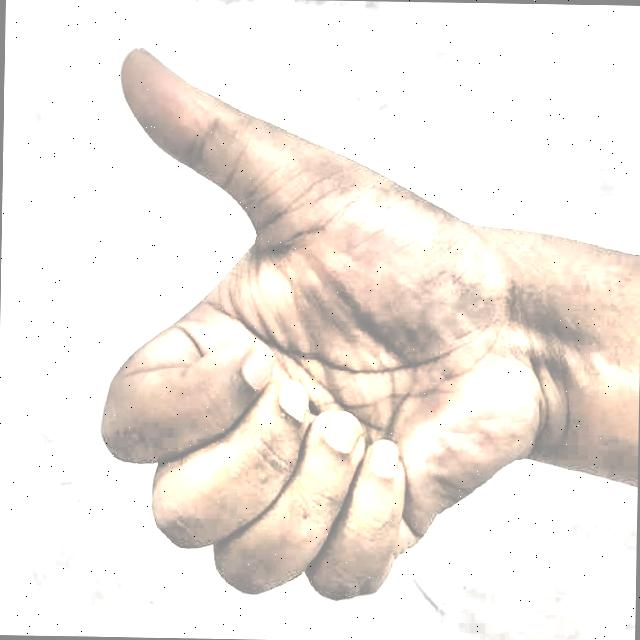Do: (52, 25, 556, 620)
